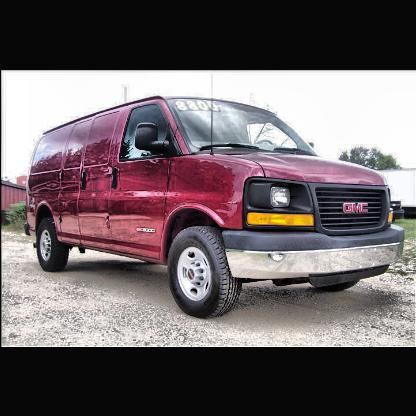GMC Savana Van 2012: (23, 94, 407, 323)
